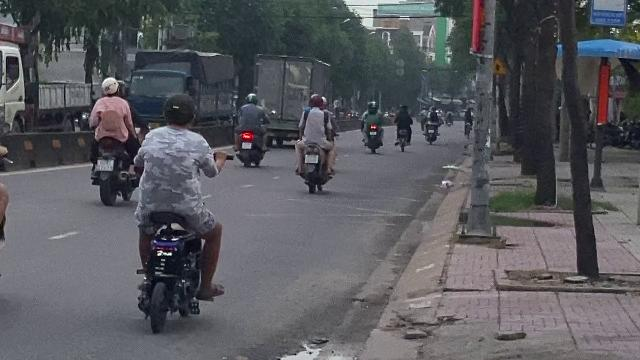helmet: (100, 78, 120, 96)
licenseplate: (96, 158, 112, 170)
motorcyclist: (125, 90, 228, 334), (85, 76, 138, 206)
nohelmet: (160, 93, 196, 128)
